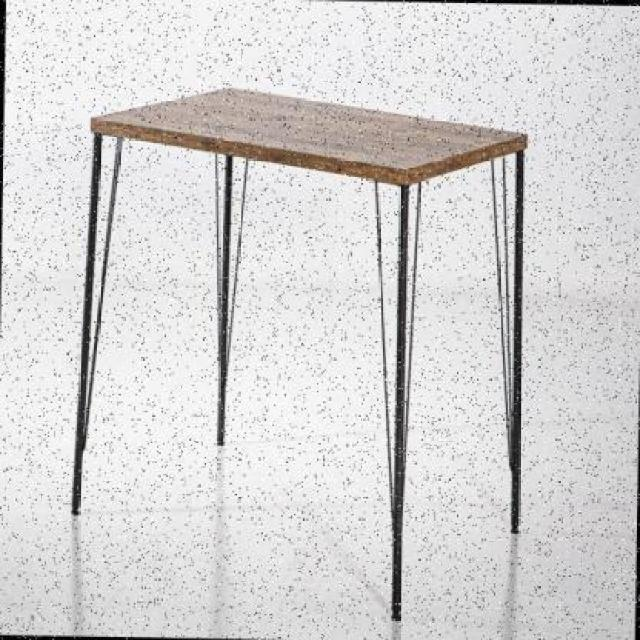tables: (69, 85, 528, 620)
